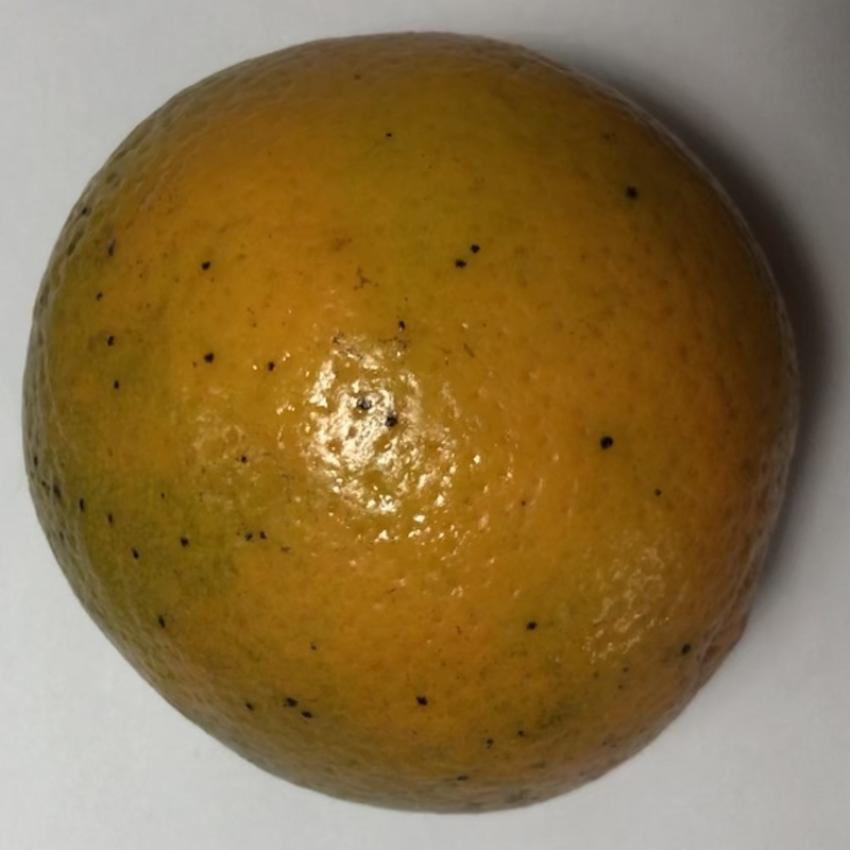Mal estado: (19, 12, 820, 816)
